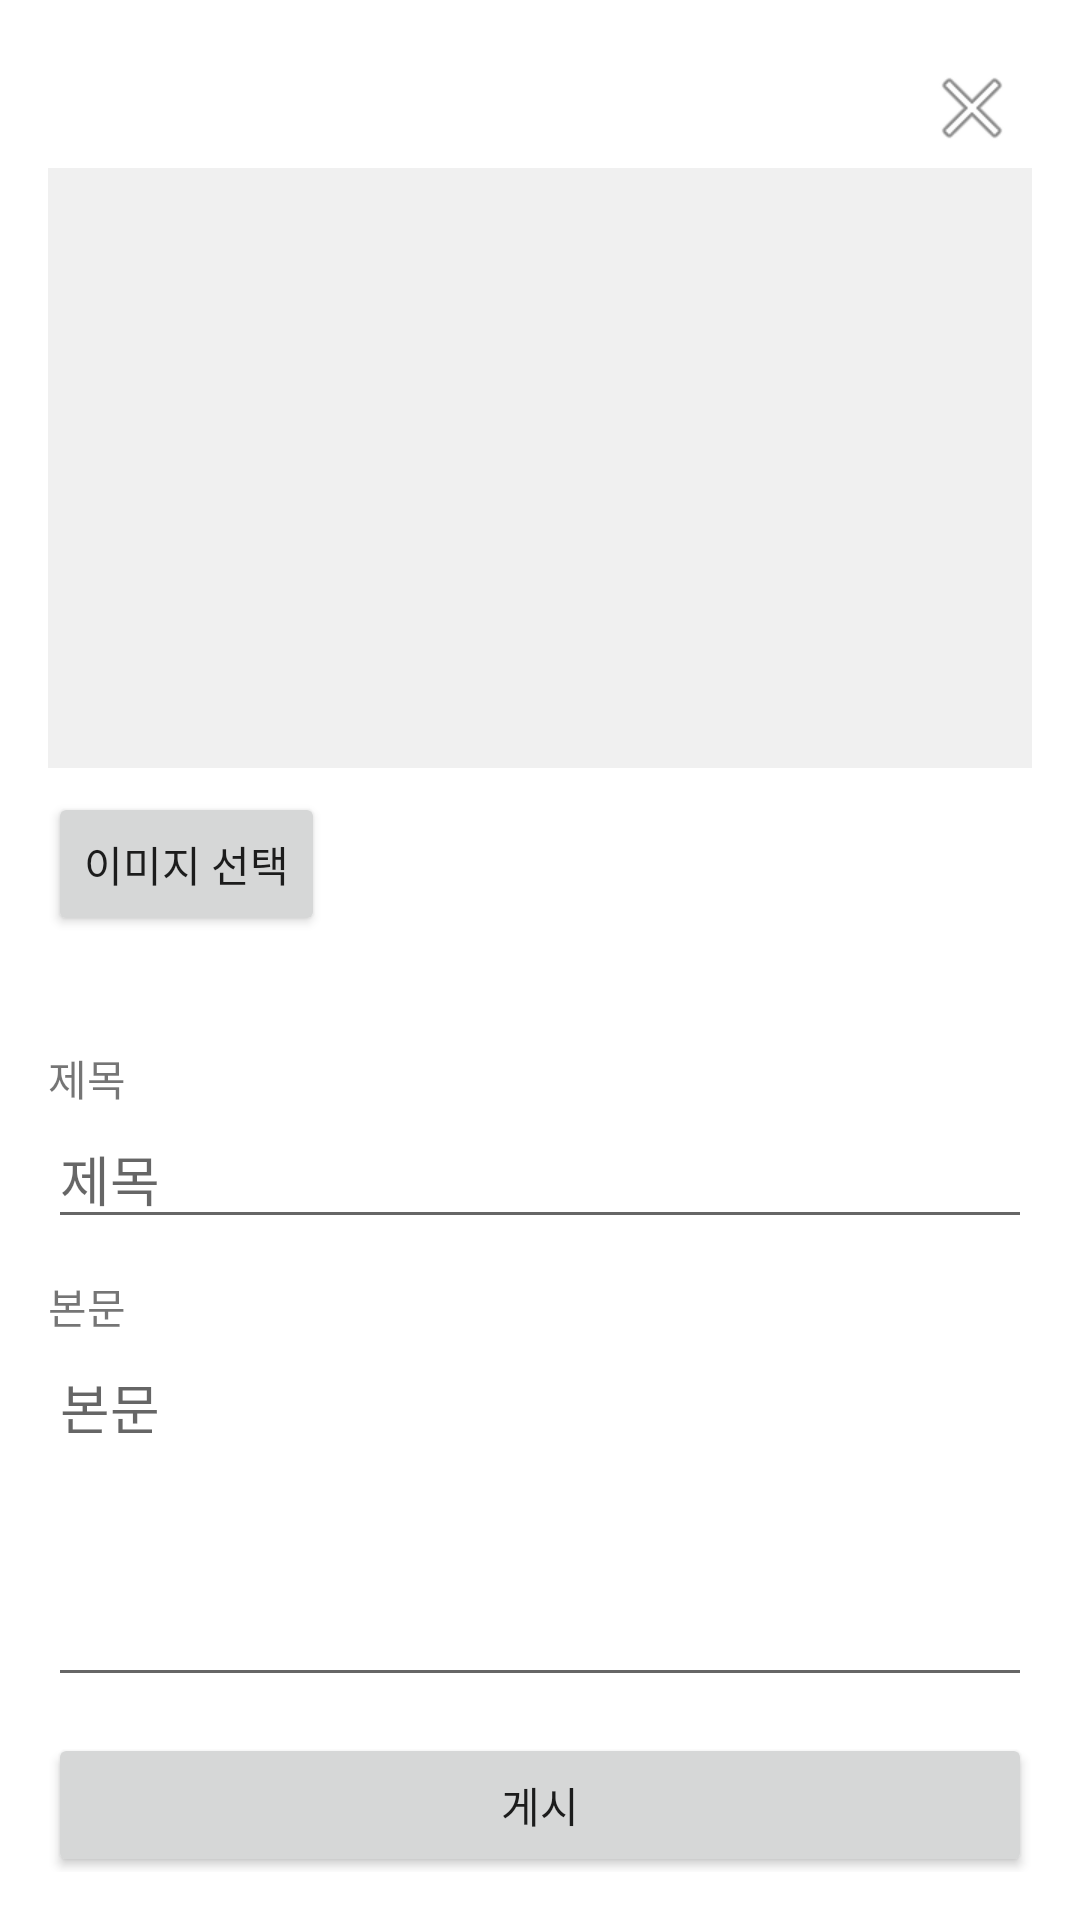

Where to tap for icons on this 1080×1920 app screen, as (x,y):
닫기: (972,108)
